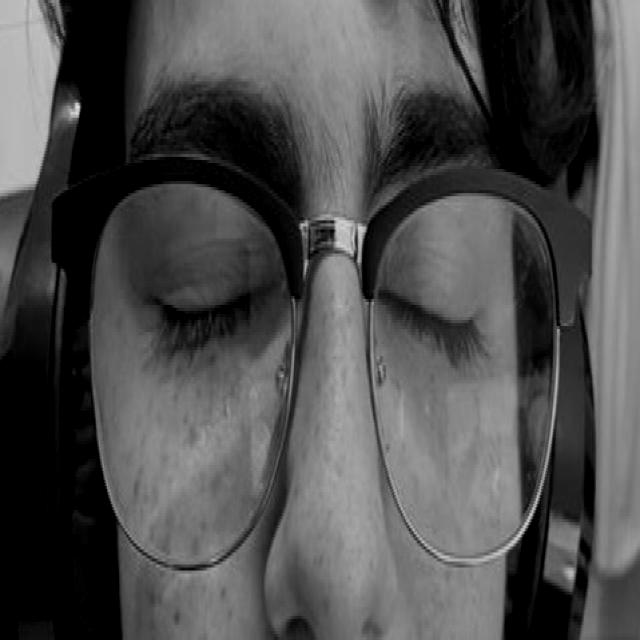real: (134, 62, 513, 413)
